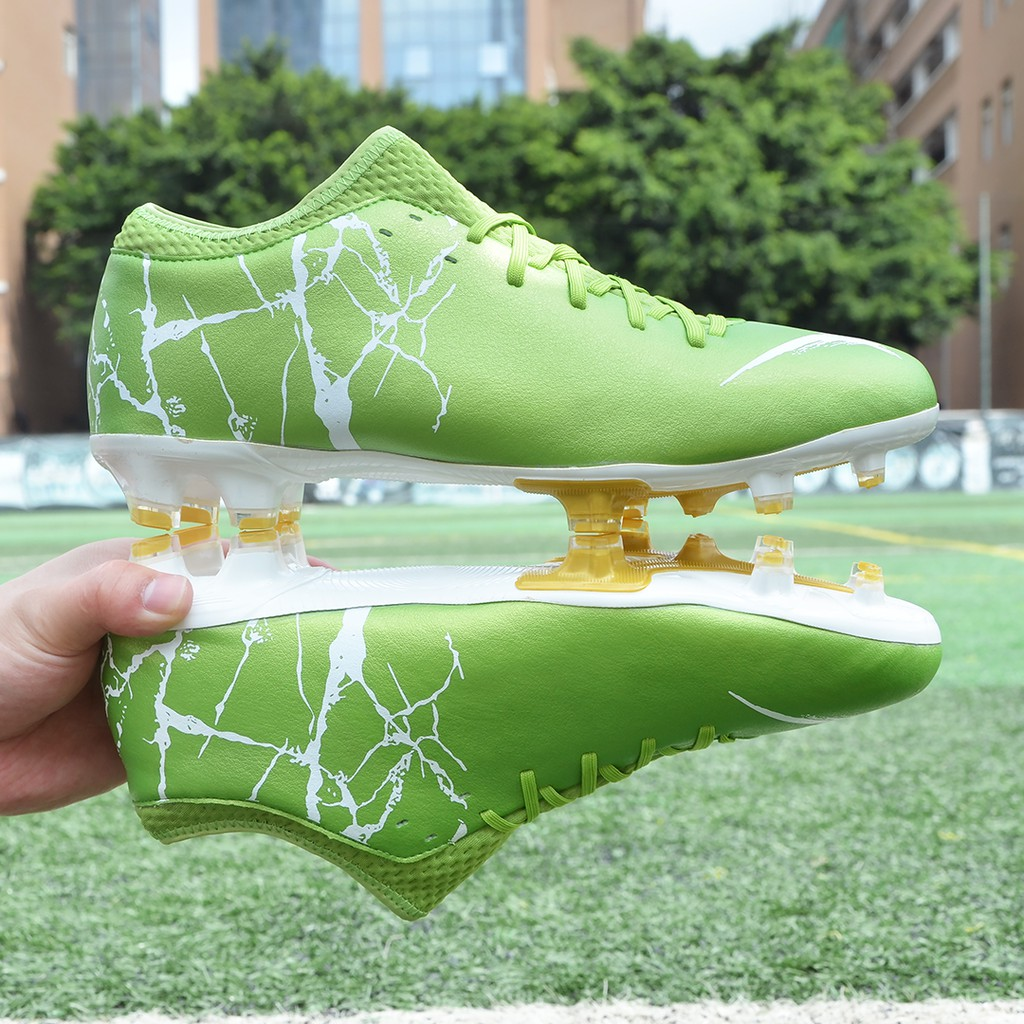soccer shoes: (83, 111, 939, 539), (92, 533, 944, 919)
